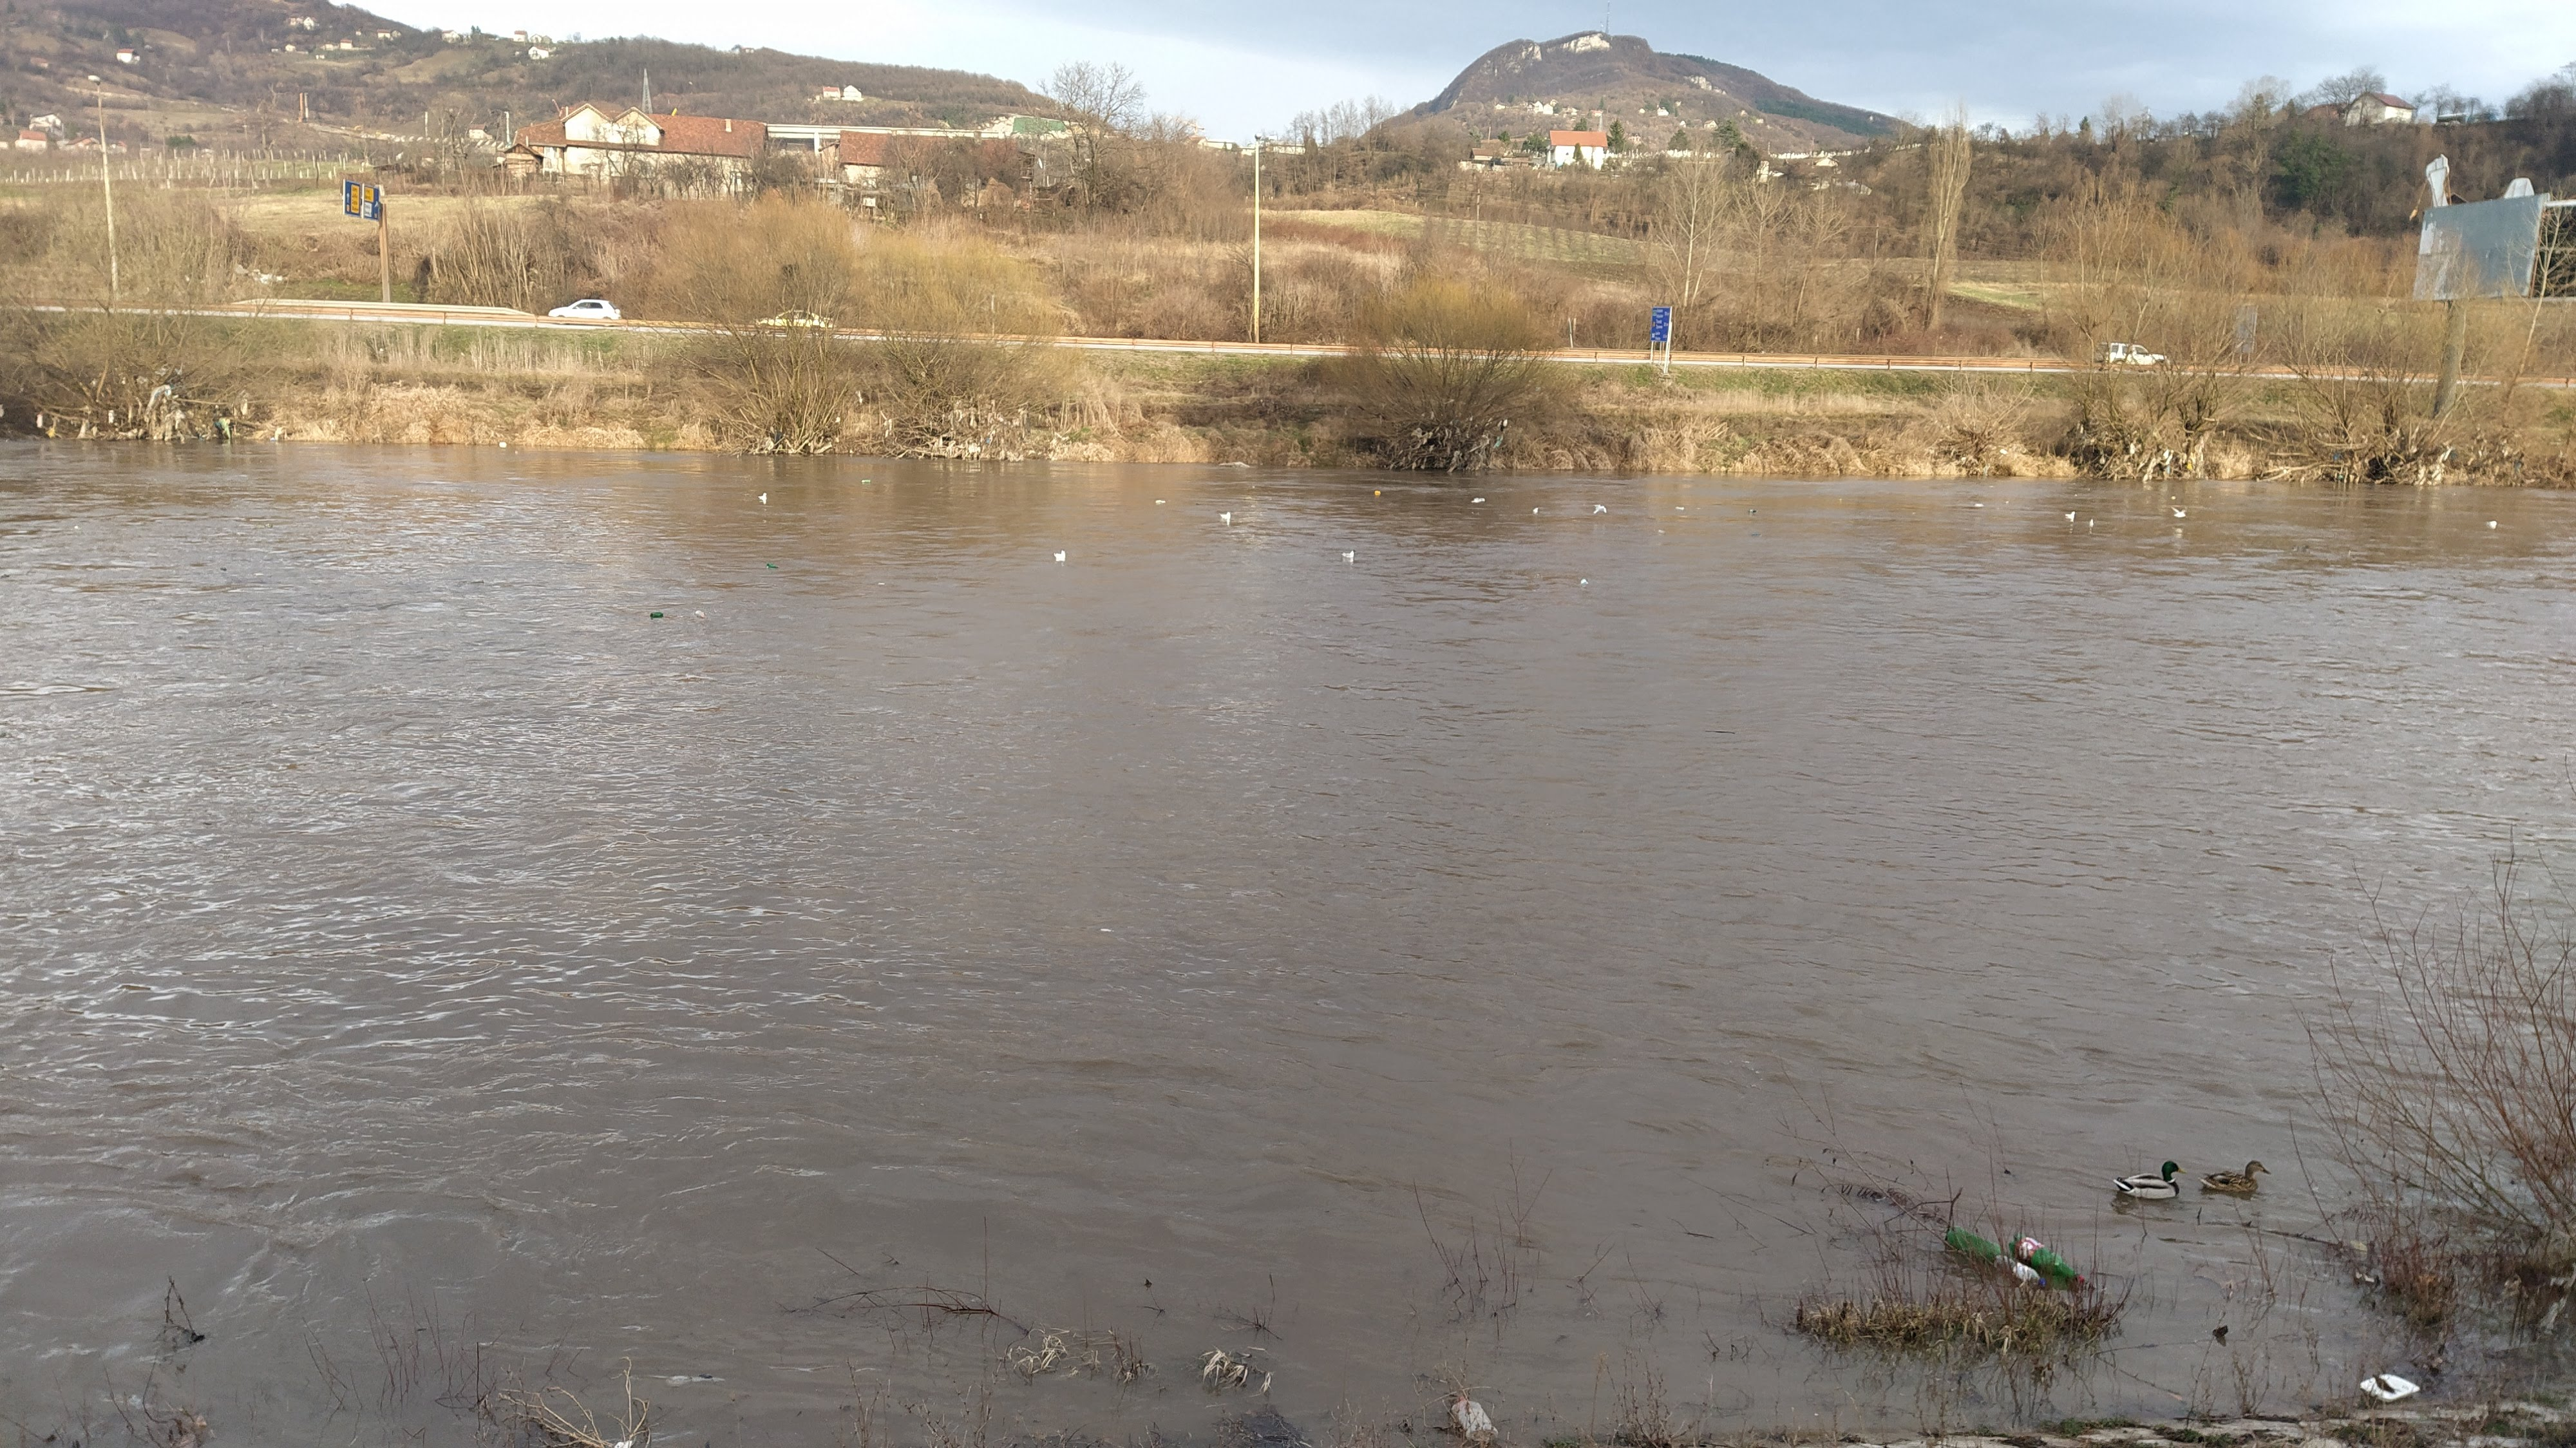Plastic Bottle: (2008, 1234, 2084, 1282), (1946, 1225, 2003, 1262), (1451, 1395, 1497, 1439), (1994, 1253, 2045, 1285), (695, 611, 704, 618), (651, 612, 662, 618), (768, 563, 778, 568), (1748, 508, 1757, 513), (1155, 499, 1164, 504), (1658, 529, 1665, 535), (1675, 506, 1684, 510), (1752, 533, 1759, 536), (862, 480, 869, 483), (1375, 490, 1378, 494)
